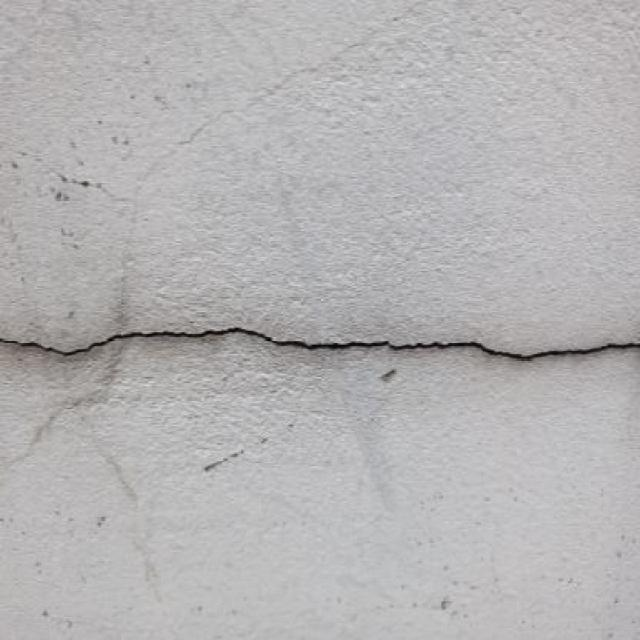GRIETA: (118, 0, 435, 331), (0, 327, 639, 361), (6, 341, 132, 470), (88, 436, 166, 603)
